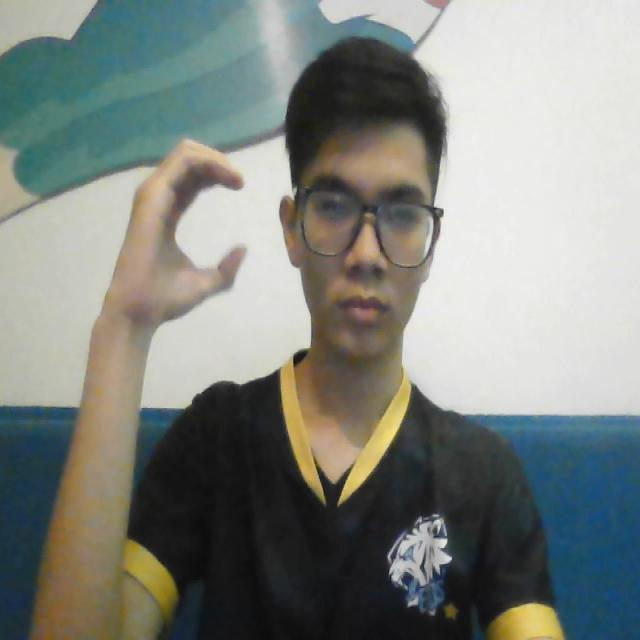C: (116, 128, 256, 312)
